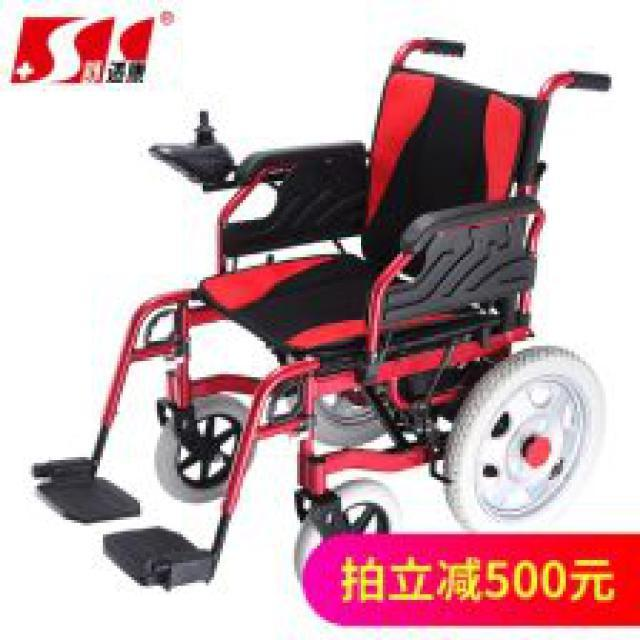wheelchairs: (41, 39, 601, 589)
